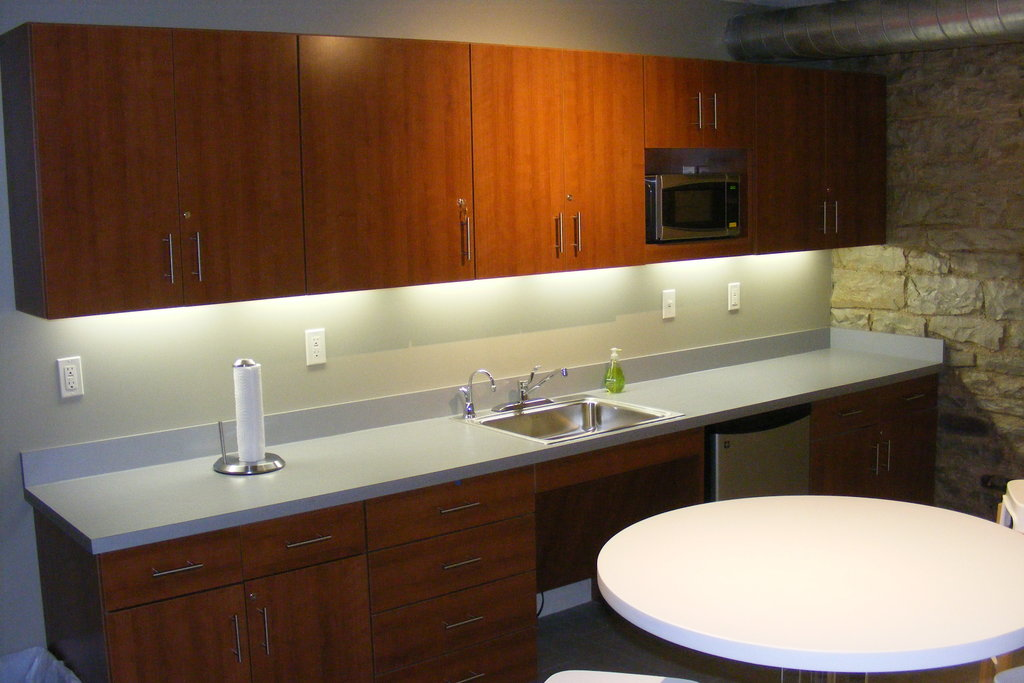tap: (515, 364, 568, 404)
